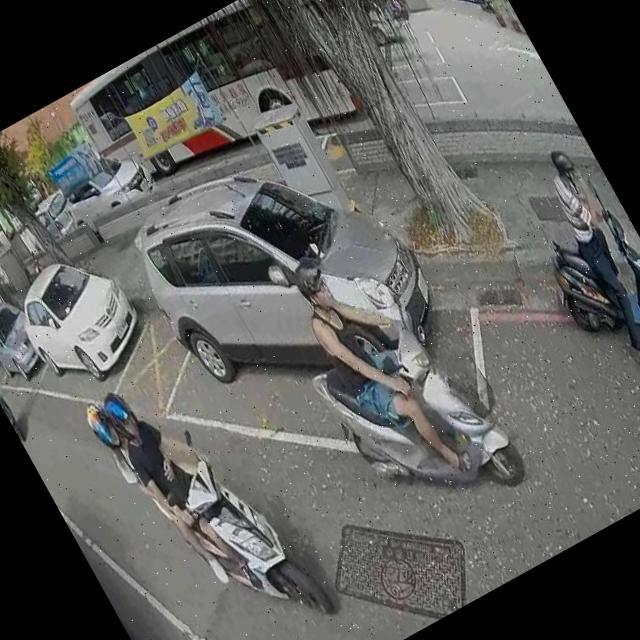person: (272, 222, 490, 510), (94, 362, 277, 618), (80, 370, 260, 603), (526, 139, 640, 381), (378, 0, 406, 12)
